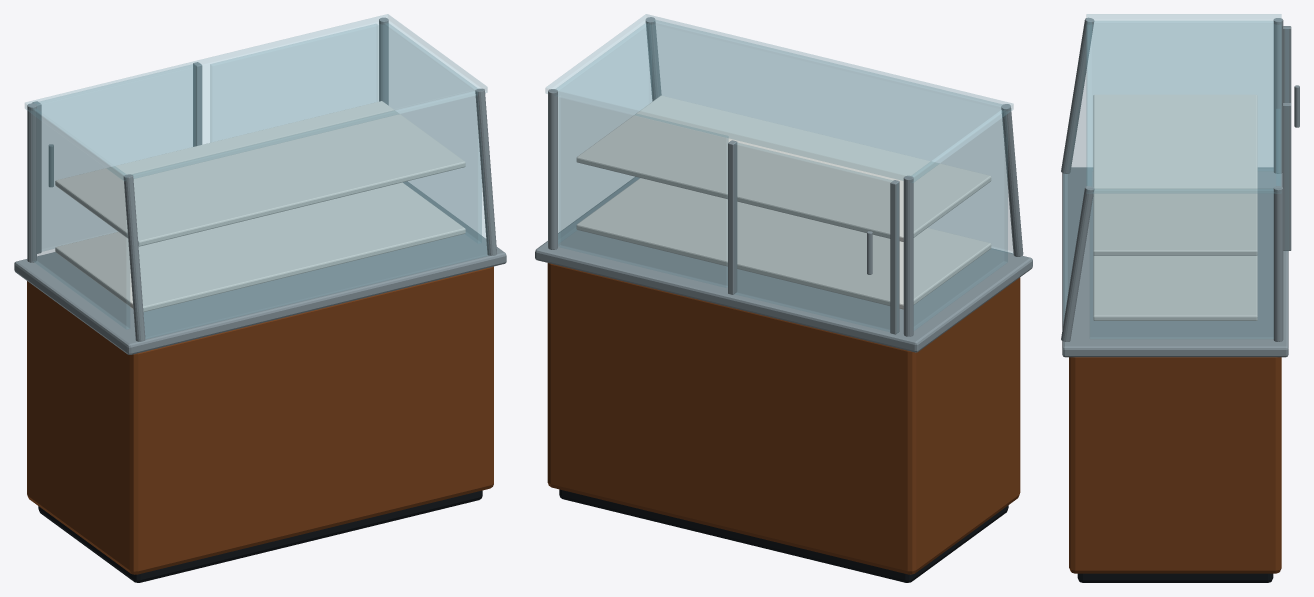
Rendered from food-display-cabinet.glb.
3 views of the same model, side by side, from view 1: azimuth 30°, elevation 25°; view 2: azimuth 150°, elevation 25°; view 3: azimuth 270°, elevation 25° (orthographic). The views are drawn at different scales.
Parts seen in each view (by area): view 1: Food display cabinet | static closed pose; view 2: Food display cabinet | static closed pose; view 3: Food display cabinet | static closed pose.
Part boxes in pixels (x1=…): Food display cabinet | static closed pose: x1=14, y1=14, x2=506, y2=582; Food display cabinet | static closed pose: x1=535, y1=14, x2=1032, y2=582; Food display cabinet | static closed pose: x1=1061, y1=14, x2=1299, y2=582.
Size of the model in its own units: 1.25 by 1.29 by 0.6967.
